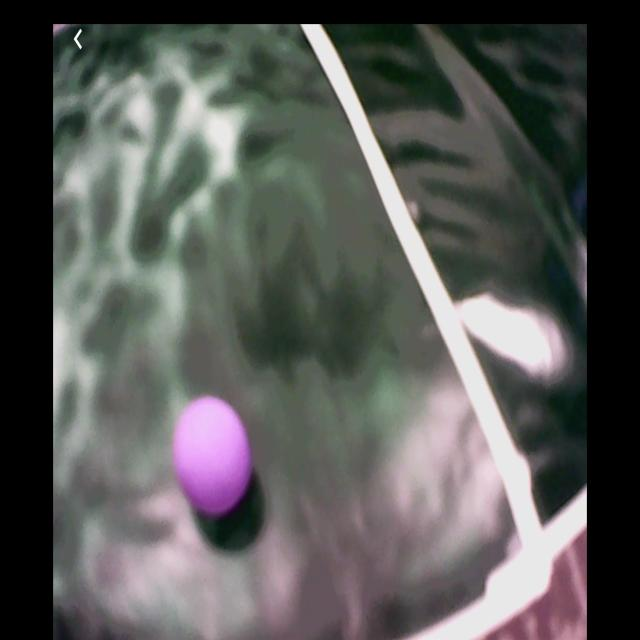ball: (173, 398, 253, 523)
